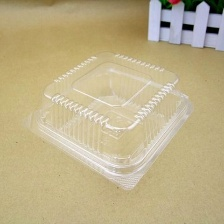plastic_box: (17, 41, 203, 198)
